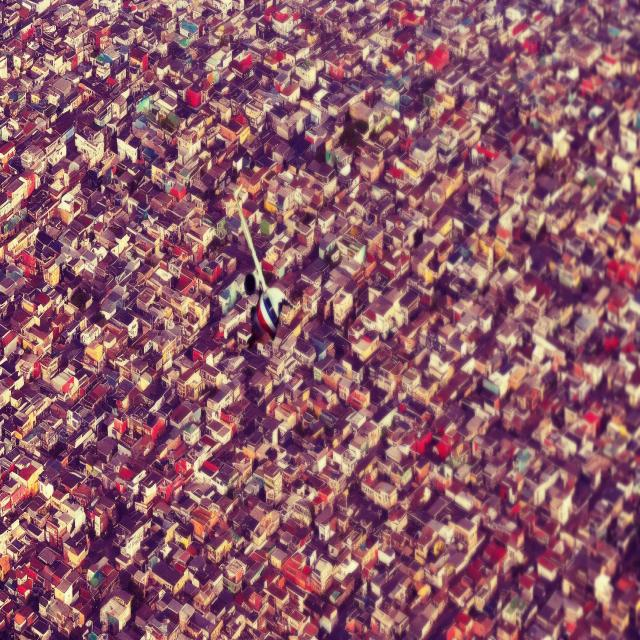airplane: (232, 188, 293, 348)
